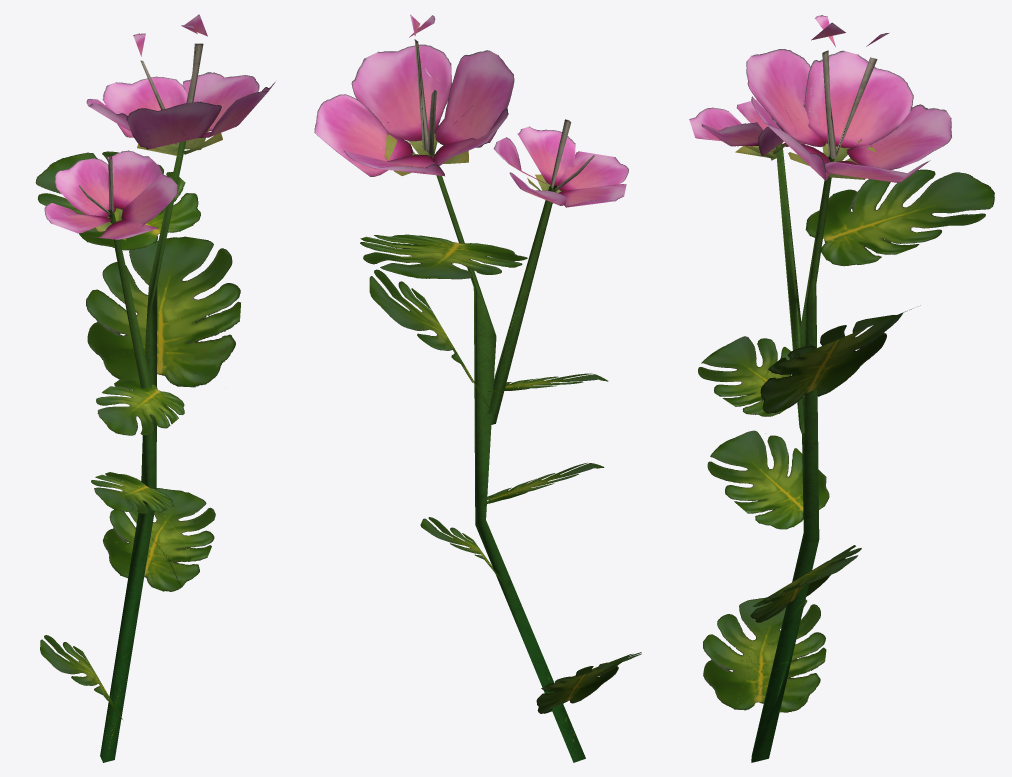
The model's file is flowers10.glb.
The picture shows the model from 3 angles, left to right: view 1: azimuth 30°, elevation 25°; view 2: azimuth 150°, elevation 25°; view 3: azimuth 270°, elevation 25°; orthographic projection. The views are drawn at different scales.
Parts seen in each view (by area): view 1: flowers.010; view 2: flowers.010; view 3: flowers.010.
Part boxes in pixels (bbox=[...]): flowers.010: bbox=[35, 14, 275, 762]; flowers.010: bbox=[314, 14, 641, 762]; flowers.010: bbox=[689, 15, 994, 762].
Size of the model in its own units: 0.2884 by 0.7354 by 0.2569.
1 material, 1 textured.
